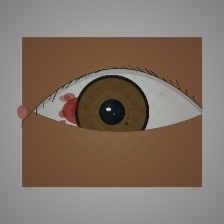hemorrhage_spot: (53, 84, 120, 137)
